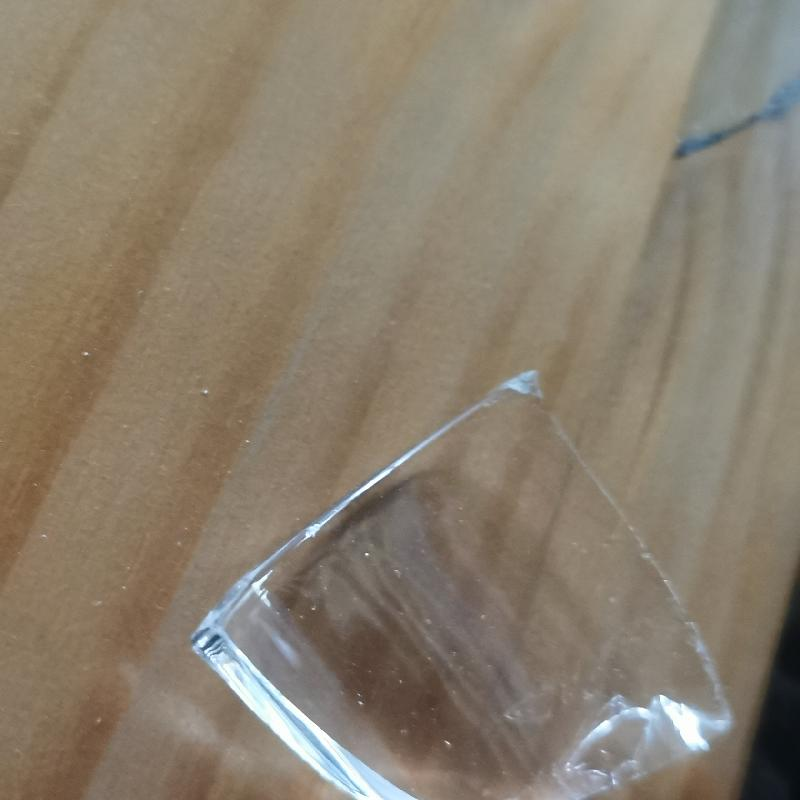glass: (181, 367, 736, 800)
